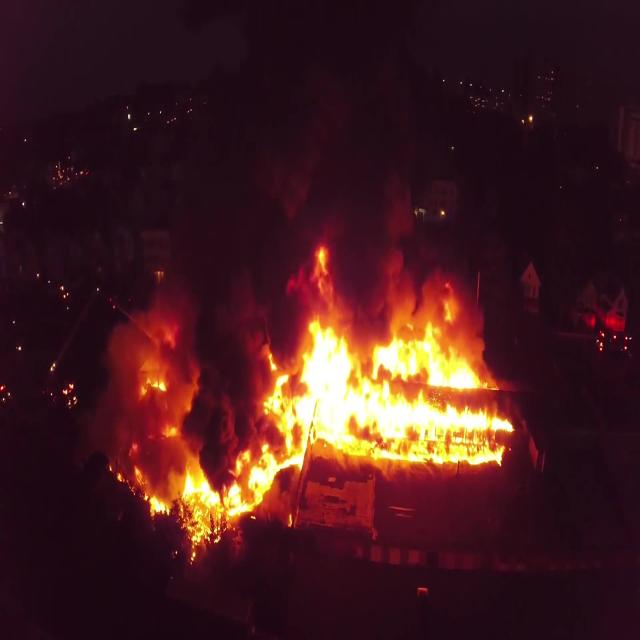Fire: (134, 325, 519, 544)
Smoke: (111, 80, 510, 490)
